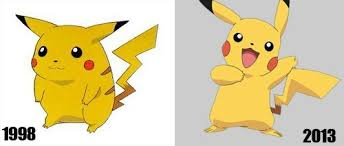pikachu: (202, 1, 341, 136), (13, 13, 160, 138)
